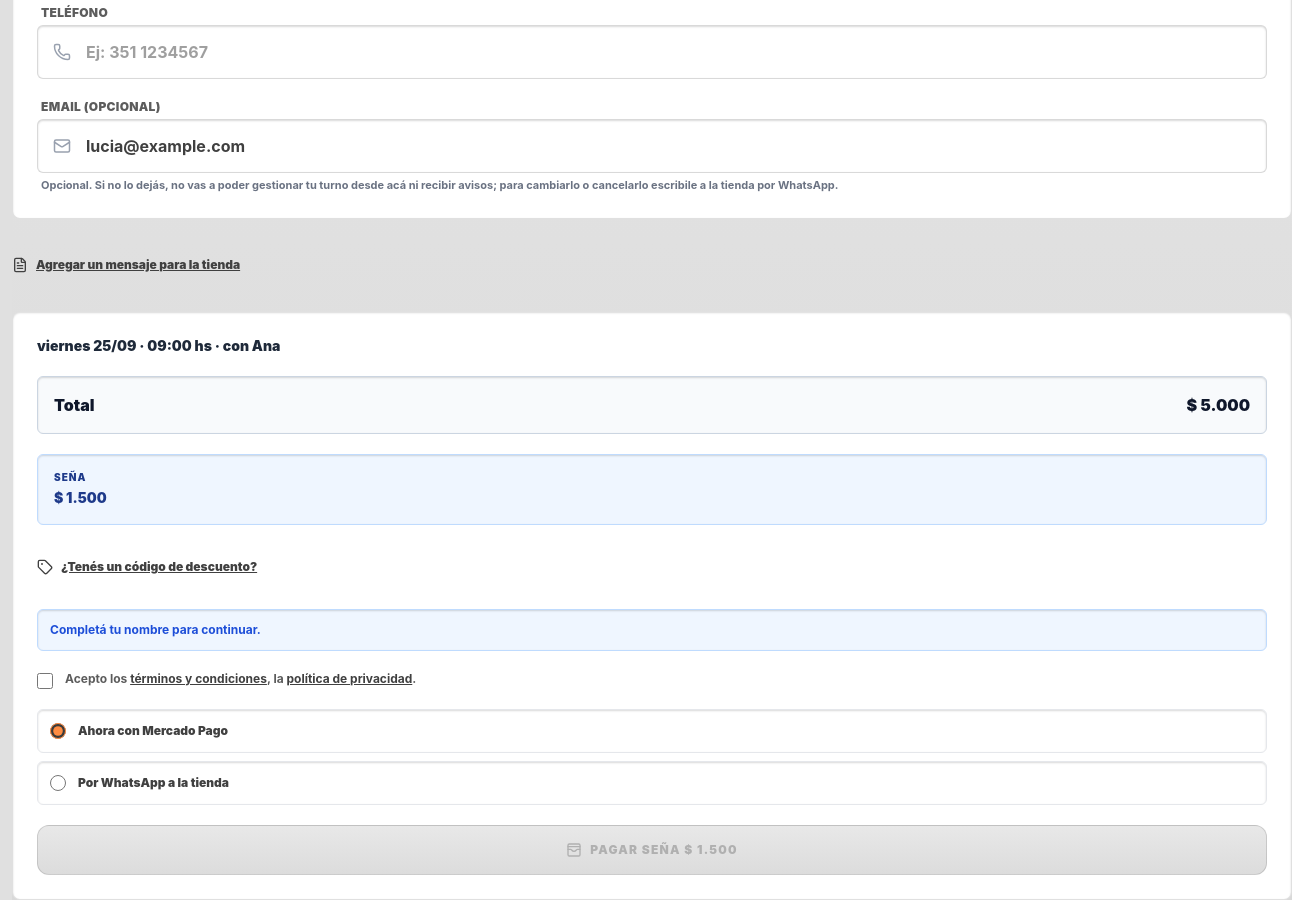
Scenario: BookingStepConfirmation › vista previa de la seña › muestra la seña que calcula el backend y ofrece pagarla online
(page scrolled)
Expected: the element with test id "deposit-preview" shows "1.500", [54,489,107,506]
Expected: the button "Pagar seña $ 1.500" is shown, [37,825,1267,875]
Click the radio button labelled "Por WhatsApp a la tienda".
click(58, 783)  # box [50,775,66,791]
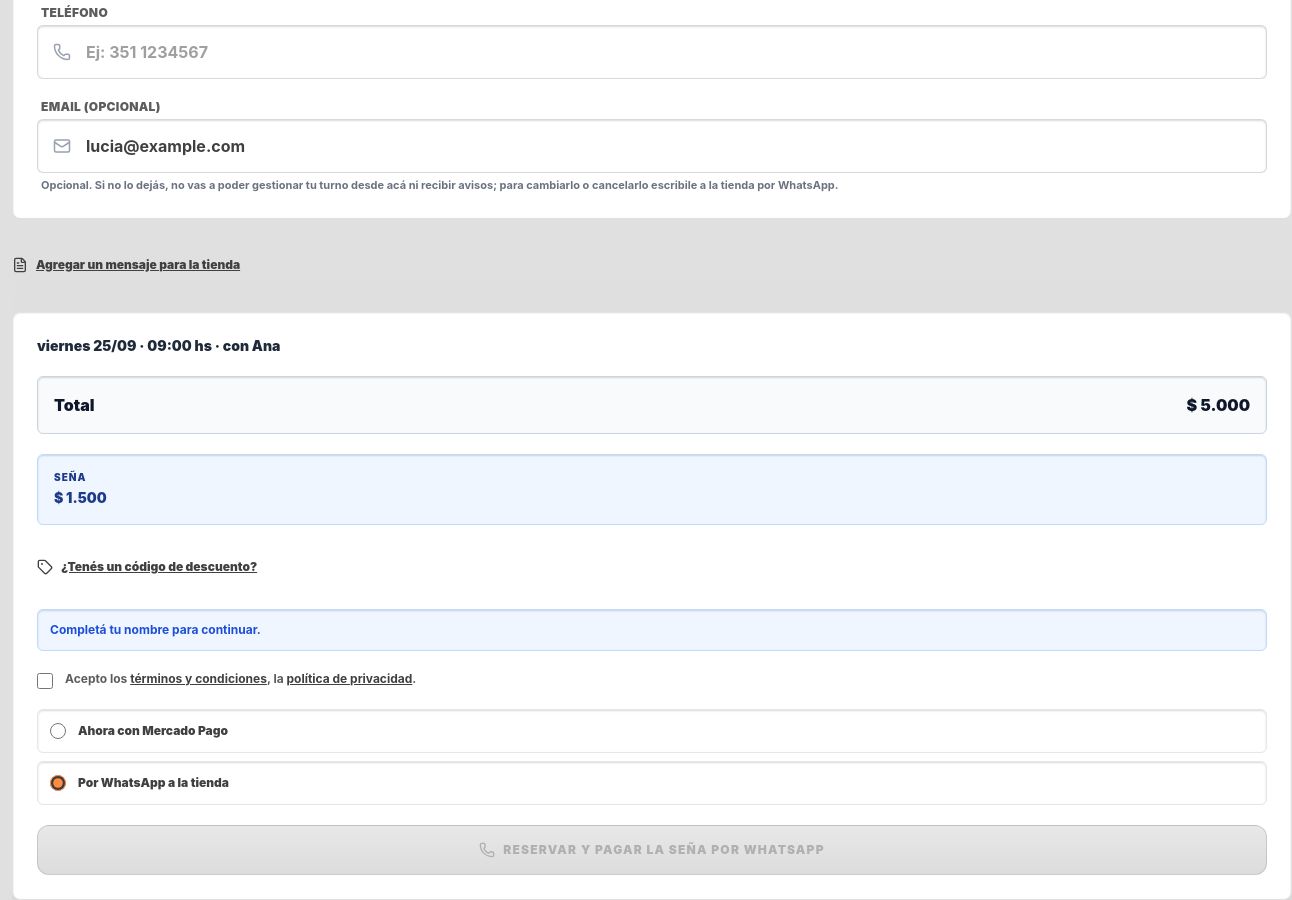
Expected: the button "Reservar y pagar la seña por WhatsApp" is shown, [37,825,1267,875]
